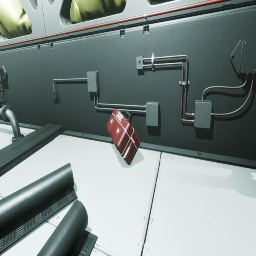FirstAidBox ,: (106, 108, 140, 165)
